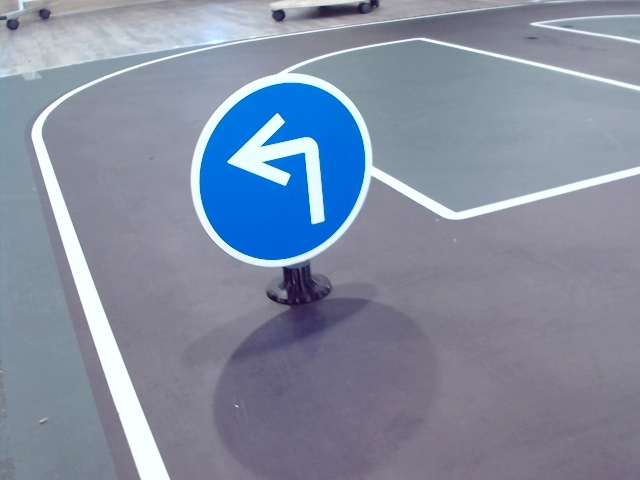turn_left: (228, 114, 328, 228)
